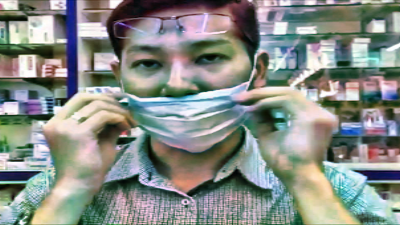mask_weared_incorrect: (116, 37, 253, 154)
